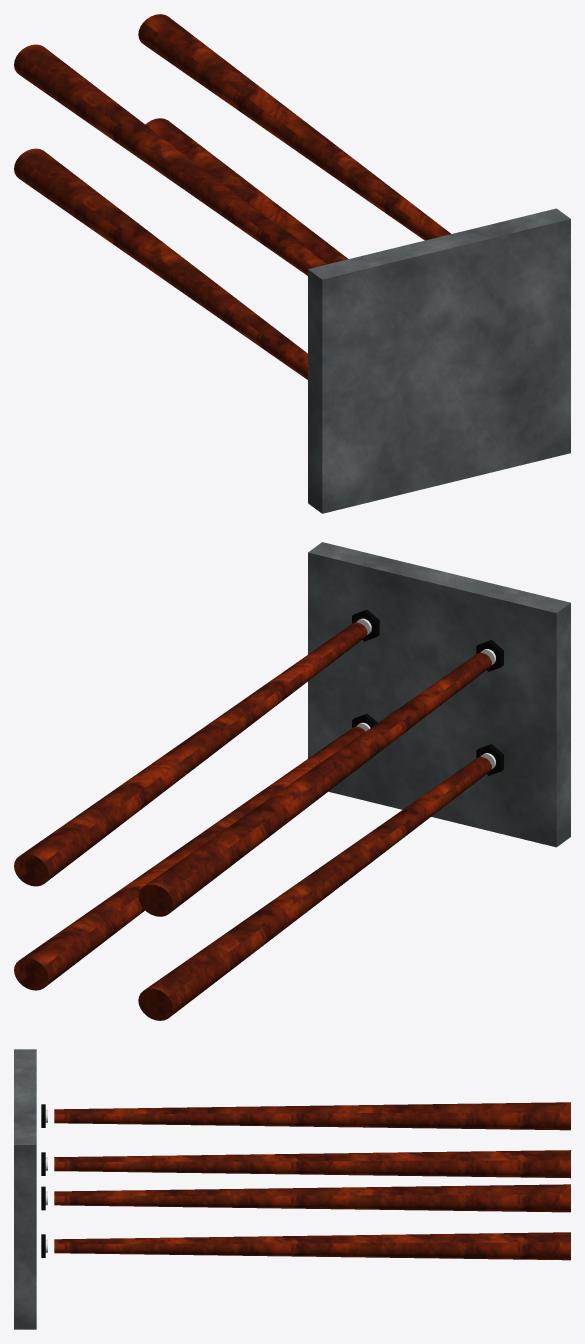
Rendered from jets.glb.
3 views of the same model, one above another, from view 1: azimuth 30°, elevation 25°; view 2: azimuth 150°, elevation 25°; view 3: azimuth 270°, elevation 25° (orthographic). The views are drawn at different scales.
Visible parts, largest first — view 1: block, lava1 (×4); view 2: block, lava1 (×4); view 3: lava1 (×4), block.
Part boxes in pixels (x1,y1,x2,y2): block: (308,208,570,513); lava1 (×4): (14,14,450,379); block: (308,542,570,847); lava1 (×4): (14,622,491,1020); lava1 (×4): (54,1102,570,1260); block: (14,1049,36,1329).
Bounding box in the file's own units: 1 × 0.9 × 2.46.
Materials: 13 (5 with a texture image).
